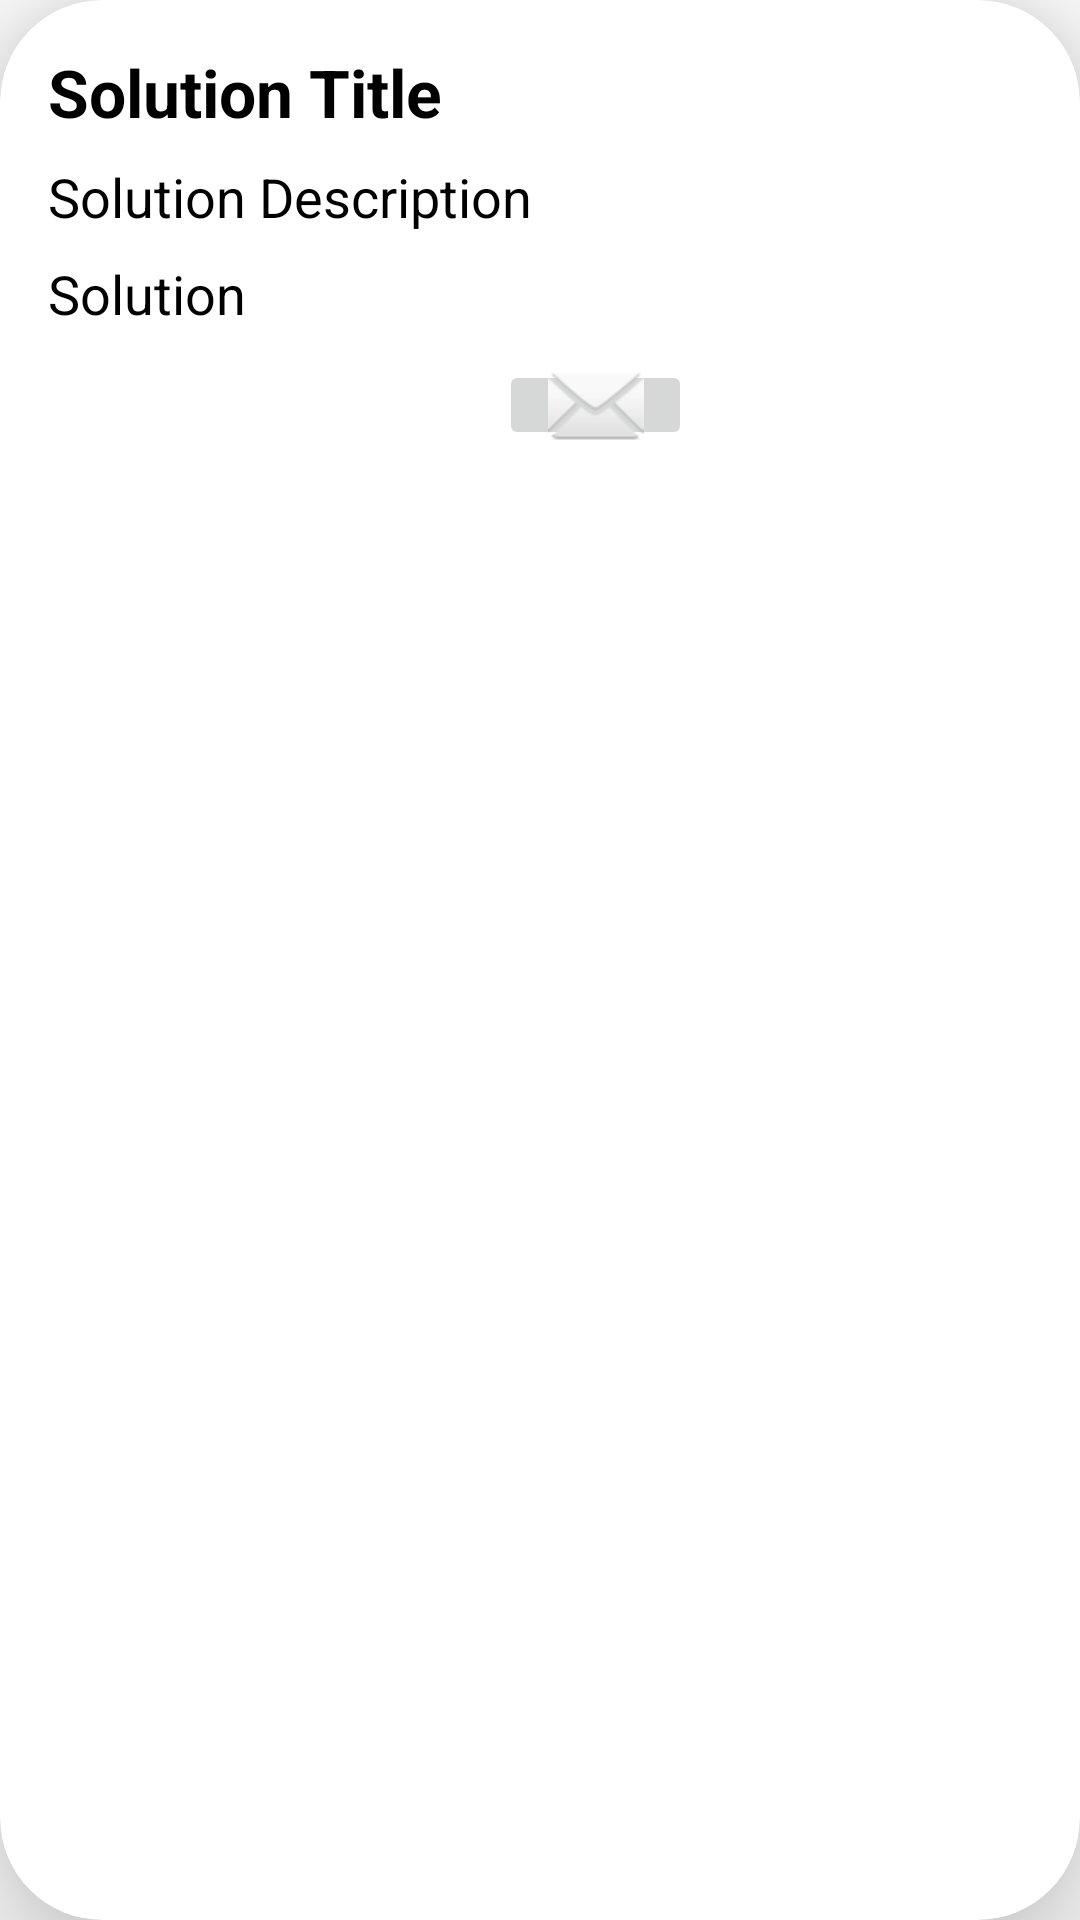

Screen size 1080w x 1920h. Icon name, then its box in pixels as (x1, y1, x2, y2):
email: (511, 374, 680, 440)
